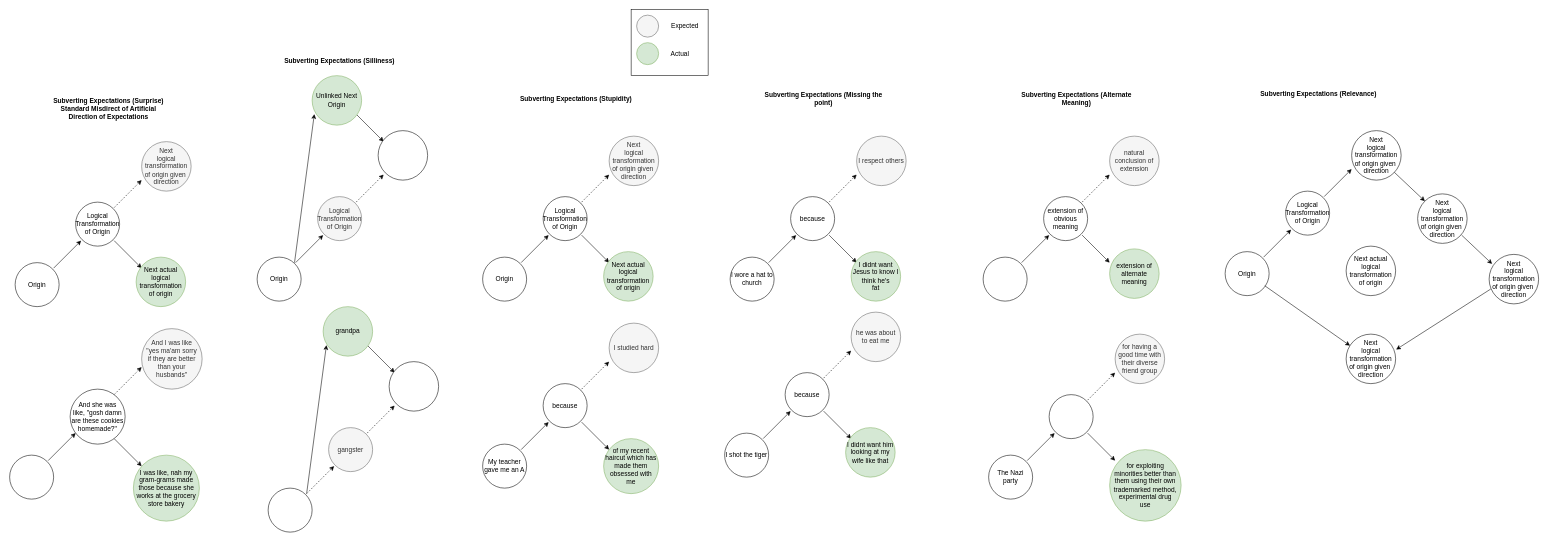
Image size: 1548x542. Some labels were removed from this diagram. Here are the shapes that lost their labels. From the top down, the box of each, then its label:
(378, 130, 428, 180): Using unlinked origin to get to original conclusion
(983, 257, 1027, 301): Origin with alternate meaning word
(389, 361, 439, 411): walk
(1049, 394, 1093, 439): reported the liberal party next to it
(9, 455, 54, 499): I was talking to your mama last night
(268, 488, 312, 532): Im so cool because of my
